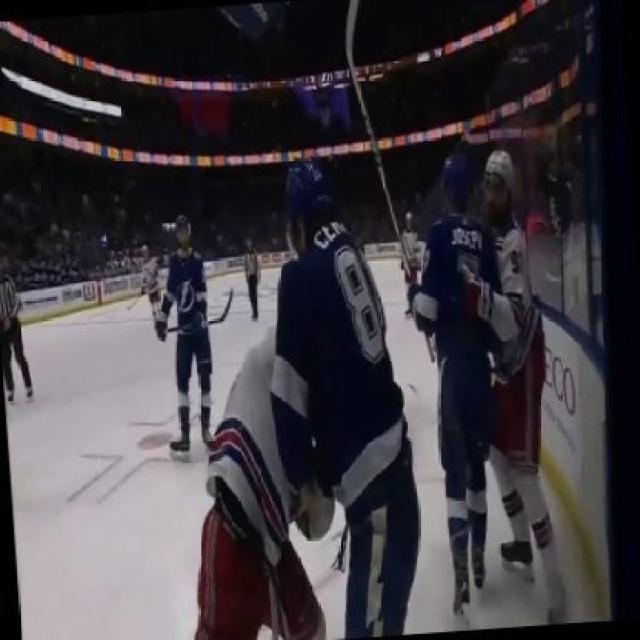fight: (182, 156, 422, 640), (408, 142, 567, 624)
non-fight: (154, 212, 214, 459), (0, 263, 40, 405), (395, 210, 424, 318), (236, 235, 263, 322)
